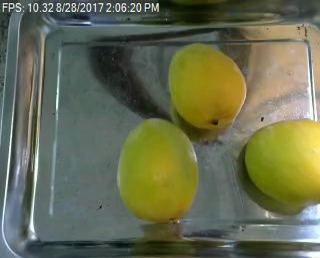Mango: (116, 112, 202, 225), (239, 114, 320, 208), (166, 39, 248, 131)
